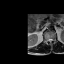CCS_normal: (49, 36, 51, 44)
LFS_normal: (52, 37, 54, 42)
LLS_normal: (51, 37, 52, 42)
RFS_normal: (46, 38, 48, 43)
RLS_normal: (48, 37, 49, 42)
